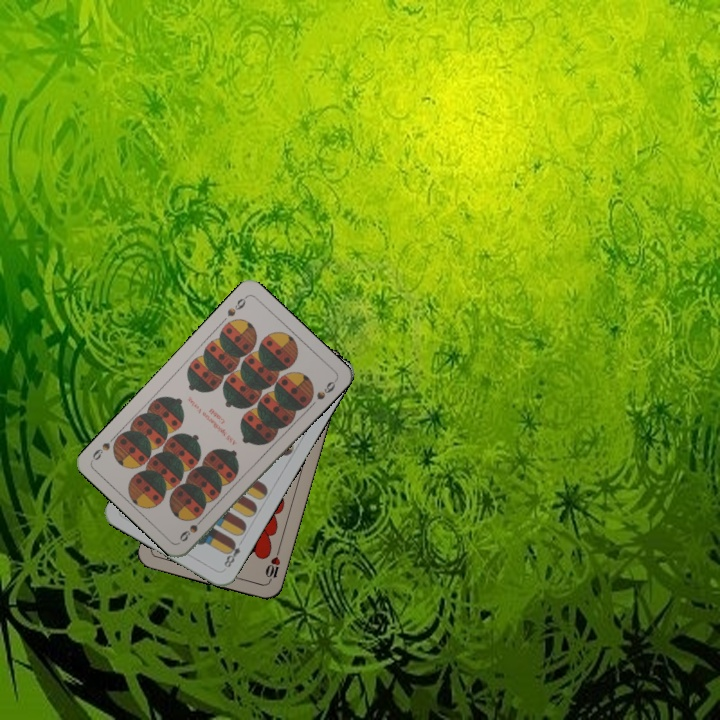E8: (220, 536, 246, 570)
H10: (261, 545, 283, 585)
S9: (175, 512, 208, 544), (223, 292, 250, 319)
